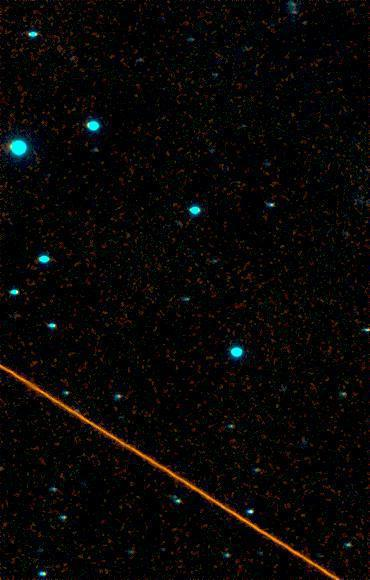star: (105, 367, 135, 397)
